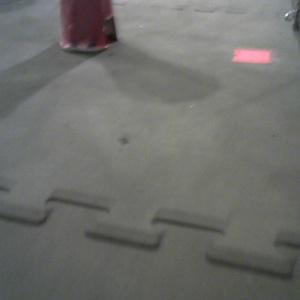middle: (59, 1, 118, 51)
